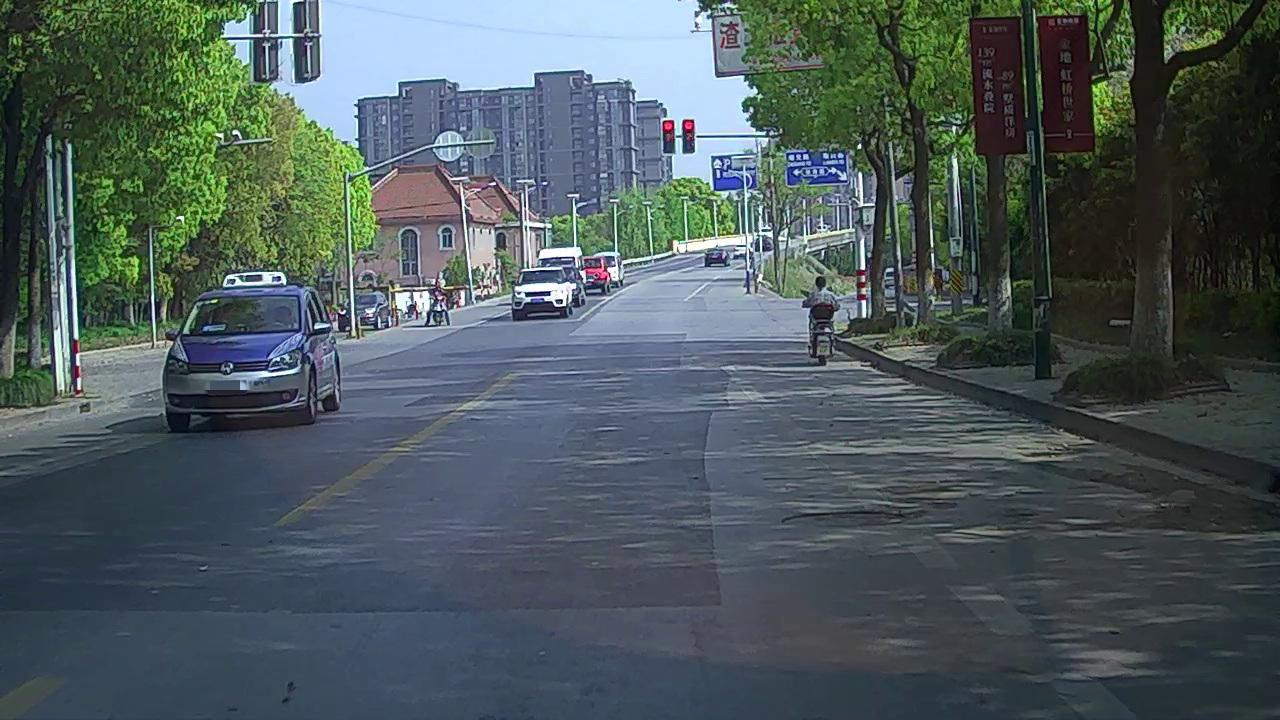traffic_light: (662, 119, 675, 154), (684, 119, 695, 153)
